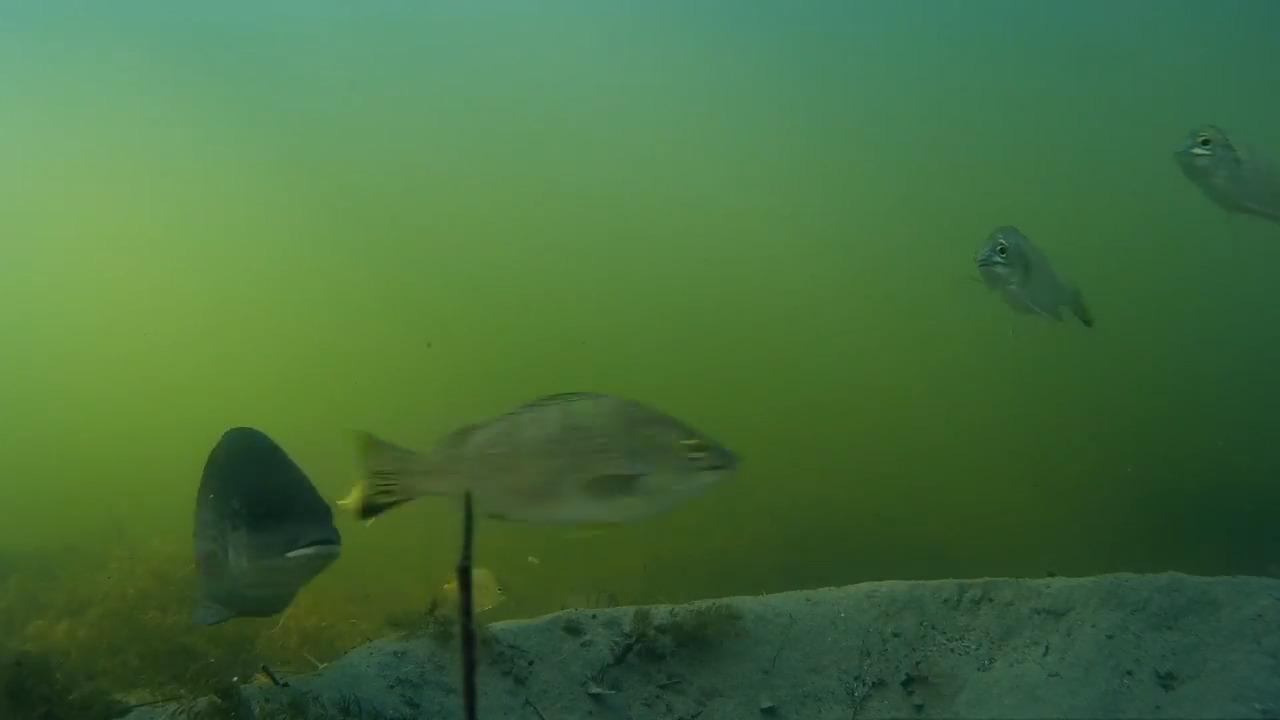Tilapia: (349, 384, 746, 554), (155, 400, 342, 622), (959, 216, 1104, 342), (1177, 118, 1280, 228)
